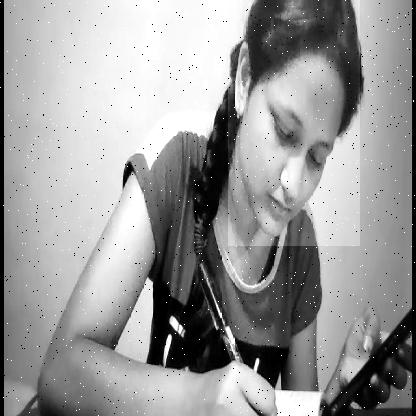Distracted: (228, 0, 360, 246)
